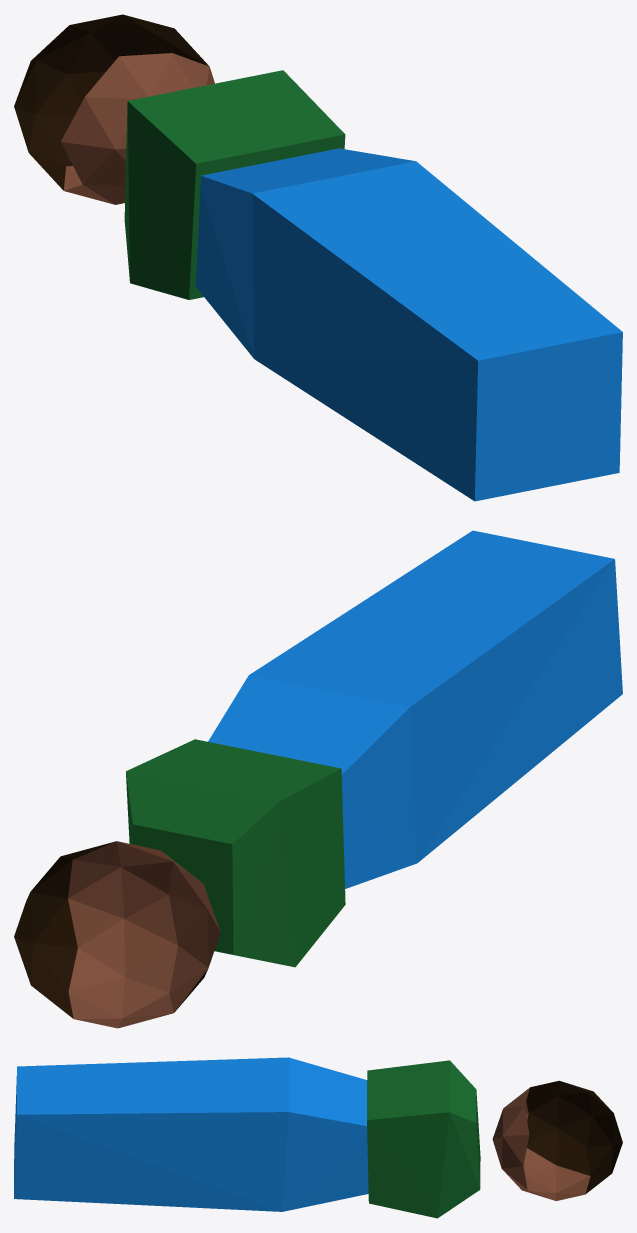
The model's file is ManGreen.dae.
The picture shows the model from 3 angles, top to bottom: view 1: azimuth 30°, elevation 25°; view 2: azimuth 150°, elevation 25°; view 3: azimuth 270°, elevation 25°; orthographic projection. The views are drawn at different scales.
Visible parts, largest first — view 1: Cube.008; view 2: Cube.008; view 3: Cube.008.
Boxes of the visible parts, bbox=[...] form: Cube.008: bbox=[14, 14, 622, 501]; Cube.008: bbox=[14, 530, 622, 1028]; Cube.008: bbox=[14, 1057, 622, 1218].
Size of the model in its own units: 0.335 by 1.61 by 0.3333.
